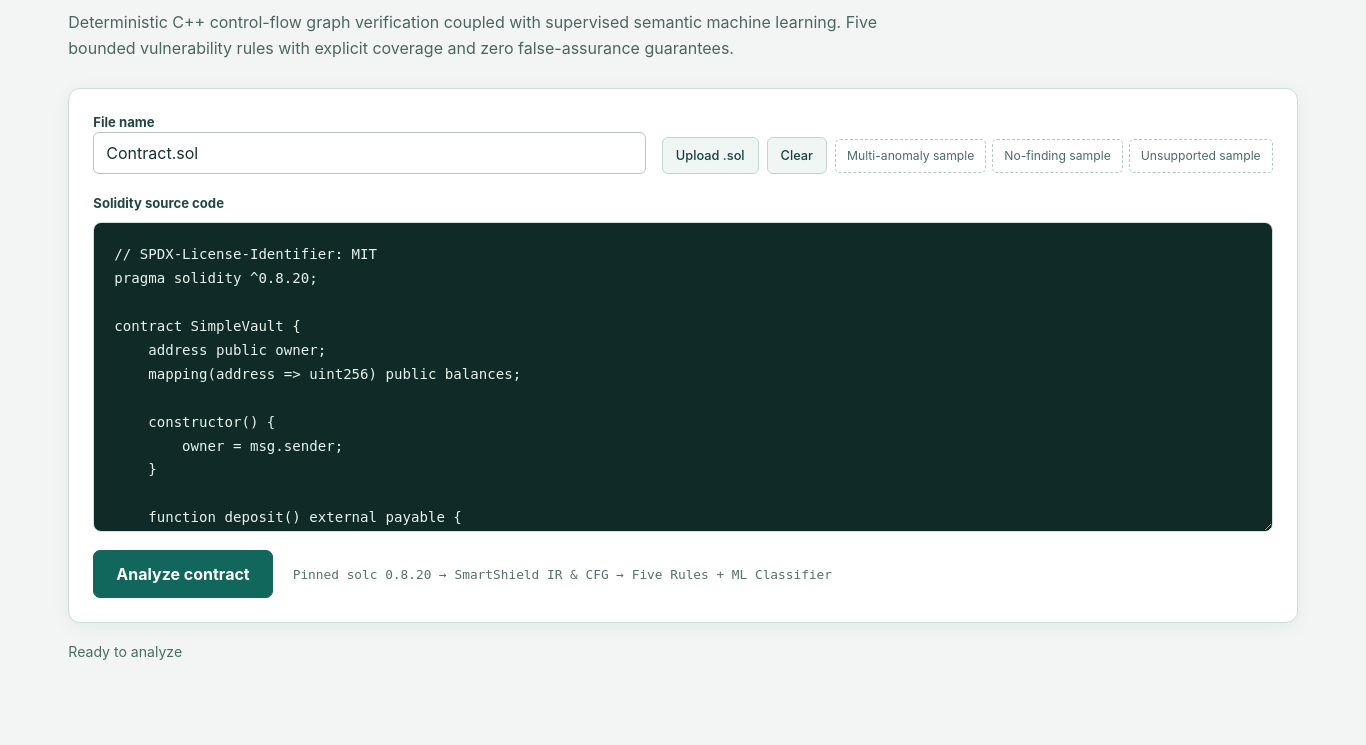
it: shows analyzer errors separately
This screenshot has width=1366, height=745.
(page scrolled)
Click the button "Analyze contract": (183, 574) x1=93 y1=550 x2=273 y2=598
(page scrolled)
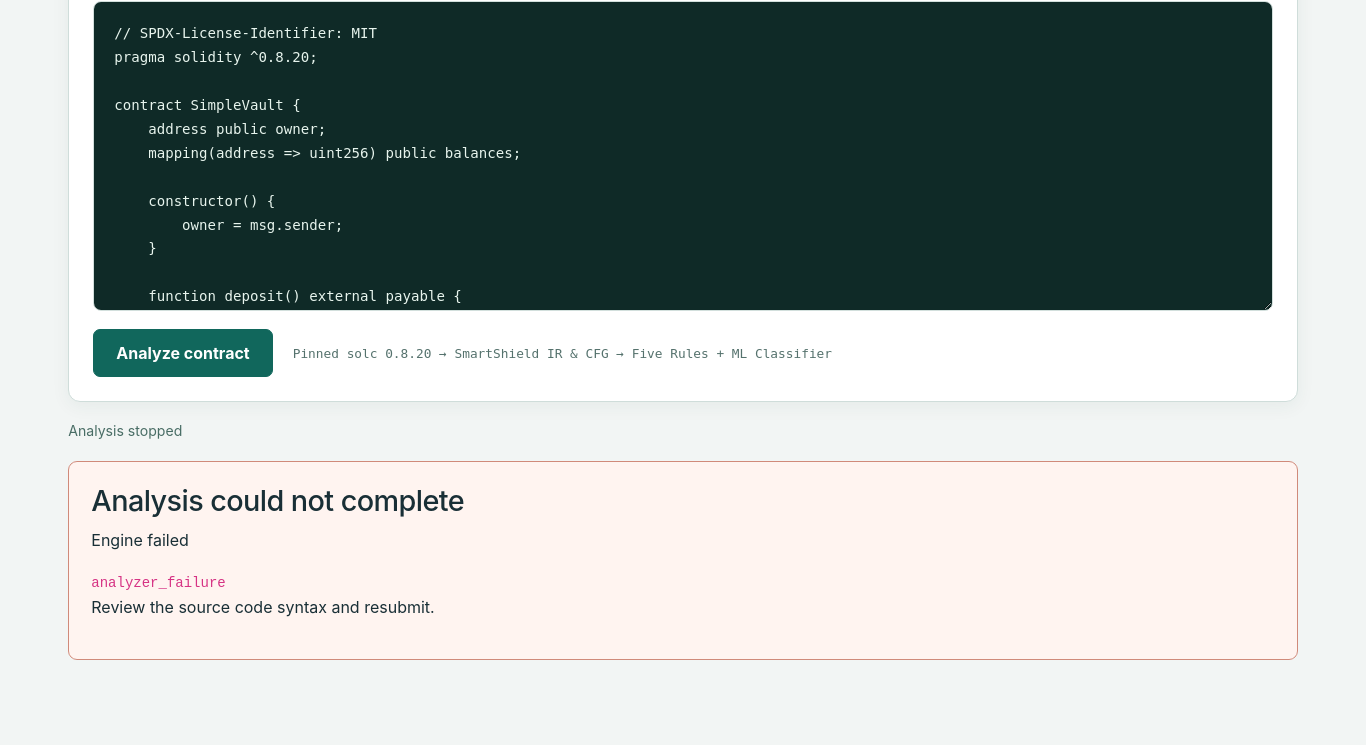
Expected: the text "Engine failed" is shown, x1=91 y1=530 x2=189 y2=550
